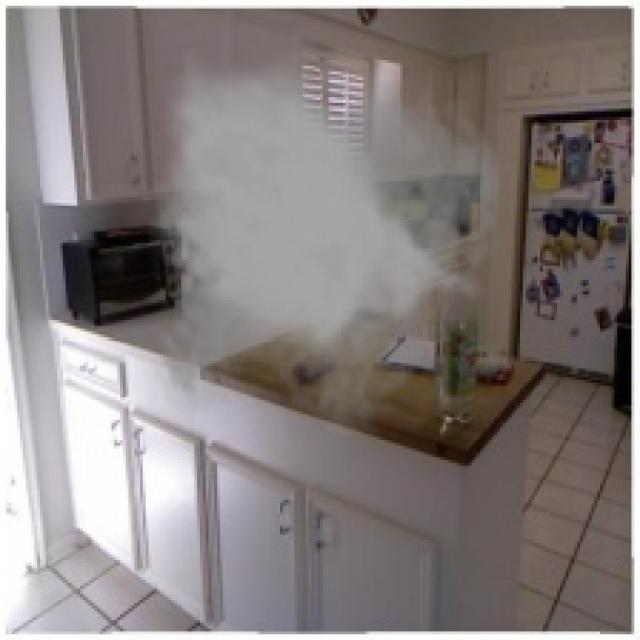smoke: (148, 49, 506, 440)
